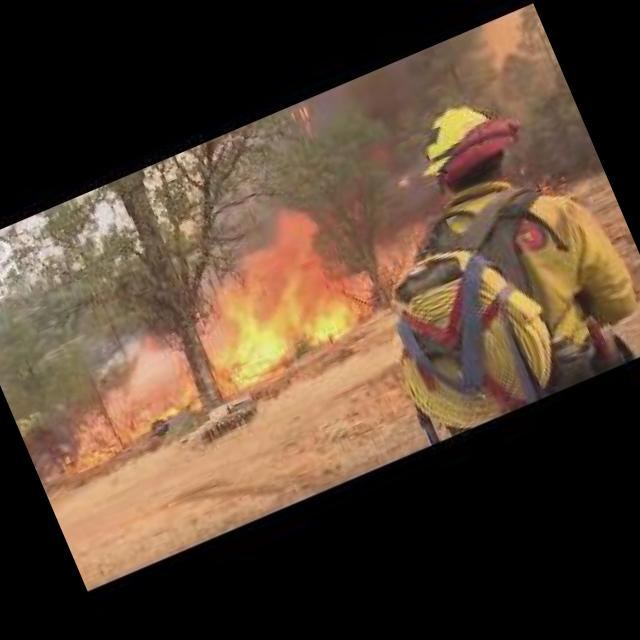fire: (160, 182, 392, 410), (41, 366, 210, 486)
